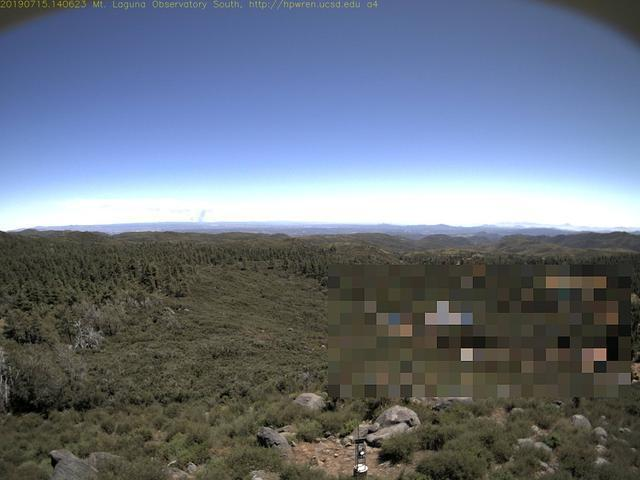smoke: (191, 205, 215, 224)
